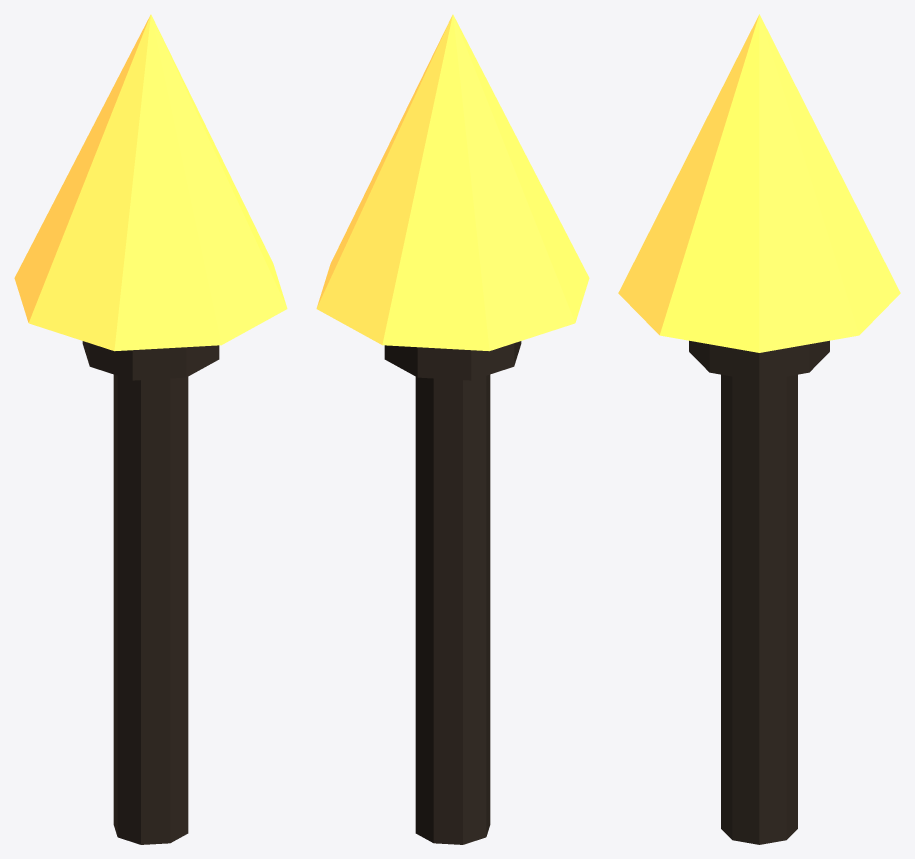
File: torch.glb
3 views of the same model, side by side, from view 1: azimuth 30°, elevation 25°; view 2: azimuth 150°, elevation 25°; view 3: azimuth 270°, elevation 25° (orthographic).
Visible parts, largest first — view 1: Torch_Flame, Torch_Handle, Torch_Collar; view 2: Torch_Flame, Torch_Handle, Torch_Collar; view 3: Torch_Flame, Torch_Handle, Torch_Collar.
Boxes of the visible parts, <box> form: Torch_Flame: <box>14,14,287,351</box>; Torch_Handle: <box>113,374,188,844</box>; Torch_Collar: <box>82,341,219,380</box>; Torch_Flame: <box>316,14,589,351</box>; Torch_Handle: <box>415,374,490,844</box>; Torch_Collar: <box>384,341,521,380</box>; Torch_Flame: <box>618,14,900,352</box>; Torch_Handle: <box>721,374,797,844</box>; Torch_Collar: <box>689,340,829,381</box>.
Bounding box in the file's own units: 0.22 × 0.7 × 0.22.
